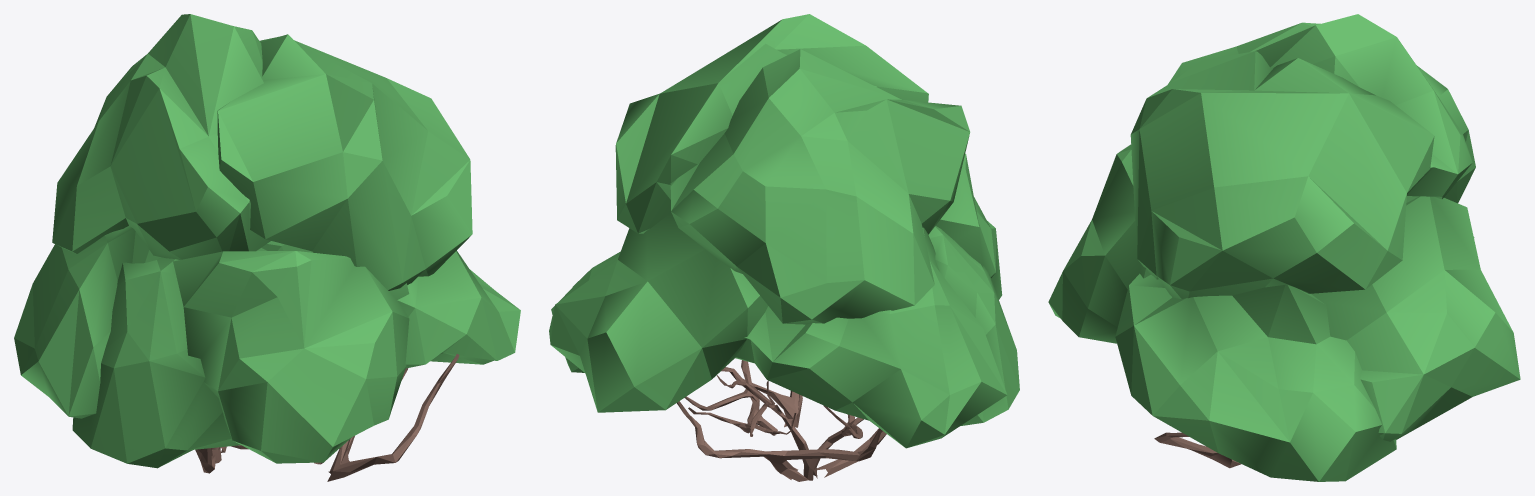
File: bush_004.glb
The picture shows the model from 3 angles, left to right: view 1: azimuth 30°, elevation 25°; view 2: azimuth 150°, elevation 25°; view 3: azimuth 270°, elevation 25°; orthographic projection. The views are drawn at different scales.
Parts seen in each view (by area): view 1: bush_004; view 2: bush_004; view 3: bush_004.
Part boxes in pixels (<box>): bush_004: <box>14,14,520,481</box>; bush_004: <box>549,14,1019,481</box>; bush_004: <box>1048,14,1520,481</box>.
Size of the model in its own units: 2.2 by 2.09 by 2.14.
Materials: 1 (1 with a texture image).
